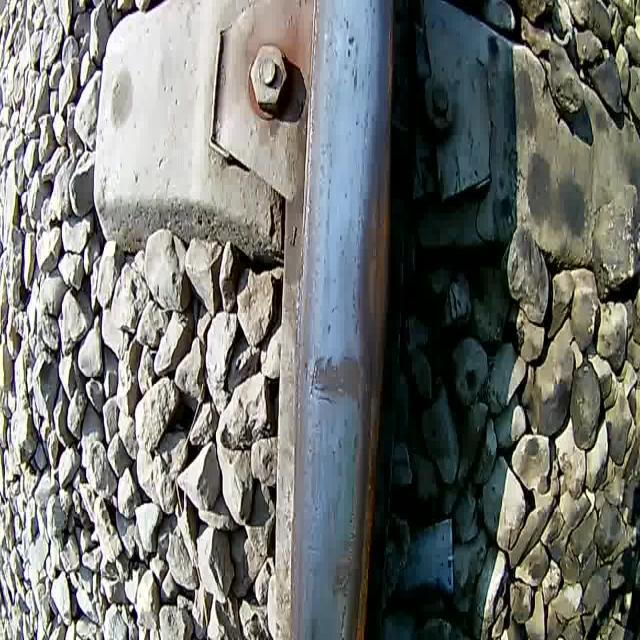Squats: (308, 351, 366, 412), (330, 556, 356, 608)
